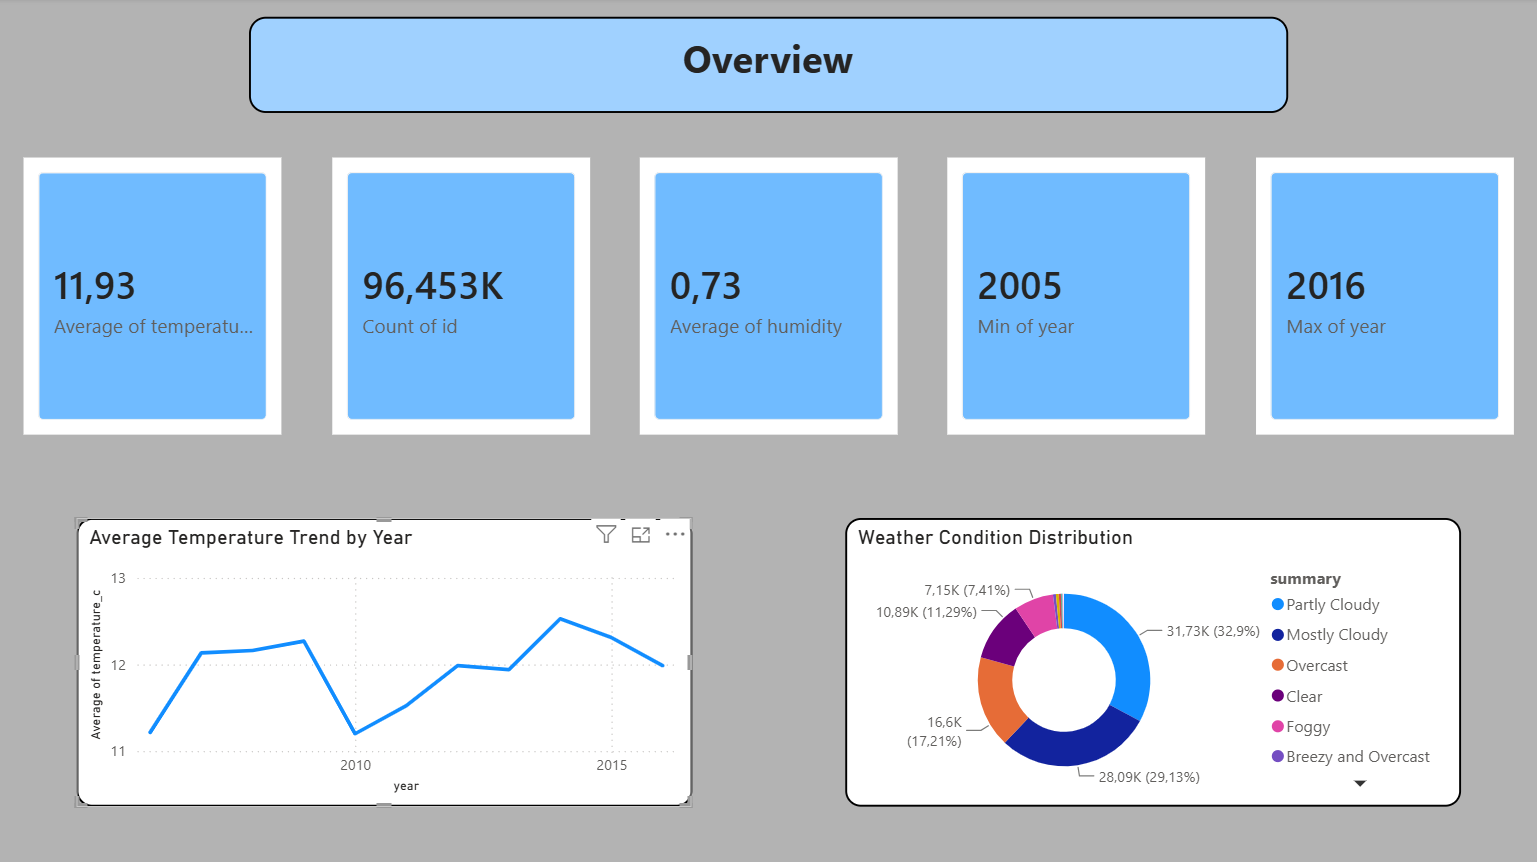

What the dashboard file says about the page in this screenshot:
{"tool":"powerbi","page":{"name":"Overview","canvas":[1280,720],"ordinal":0},"visuals":[{"type":"cardVisual","fields":{"Data":["Avg(weather db weather_data.temperature_c)"]},"box":[16,128,224,240],"z":0},{"type":"cardVisual","fields":{"Data":["Avg(weather db weather_data.humidity)"]},"box":[528,128,224,240],"z":1000},{"type":"cardVisual","fields":{"Data":["CountNonNull(weather db weather_data.id)"]},"box":[272,128,224,240],"z":2000},{"type":"cardVisual","fields":{"Data":["Min(weather db weather_data.year)"]},"box":[784,128,224,240],"z":3000},{"type":"cardVisual","fields":{"Data":["Max(weather db weather_data.year)"]},"box":[1040,128,224,240],"z":4000},{"type":"lineChart","title":"Average Temperature Trend by Year","fields":{"Category":["weather db weather_data.year"],"Y":["Avg(weather db weather_data.temperature_c)"]},"box":[64,432,512,240],"z":5000},{"type":"donutChart","title":"Weather Condition Distribution","fields":{"Category":["weather db status_types.summary"],"Y":["CountNonNull(weather db weather_data.id)"]},"box":[704,432,512,240],"z":6000},{"type":"textbox","box":[208,16,864,80],"z":6001}]}

Visuals, with their boxes in screenshot pixels (x1, y1, x2, y2), scaled from the page's 1280x720 canvas onto the 1537x862 screenshot:
cardVisual - Avg(weather db weather_data.temperature_c): {"x1": 19, "y1": 153, "x2": 288, "y2": 441}
cardVisual - Avg(weather db weather_data.humidity): {"x1": 634, "y1": 153, "x2": 903, "y2": 441}
cardVisual - CountNonNull(weather db weather_data.id): {"x1": 327, "y1": 153, "x2": 596, "y2": 441}
cardVisual - Min(weather db weather_data.year): {"x1": 941, "y1": 153, "x2": 1210, "y2": 441}
cardVisual - Max(weather db weather_data.year): {"x1": 1249, "y1": 153, "x2": 1518, "y2": 441}
"Average Temperature Trend by Year" lineChart: {"x1": 77, "y1": 517, "x2": 692, "y2": 805}
"Weather Condition Distribution" donutChart: {"x1": 845, "y1": 517, "x2": 1460, "y2": 805}
textbox: {"x1": 250, "y1": 19, "x2": 1287, "y2": 115}
